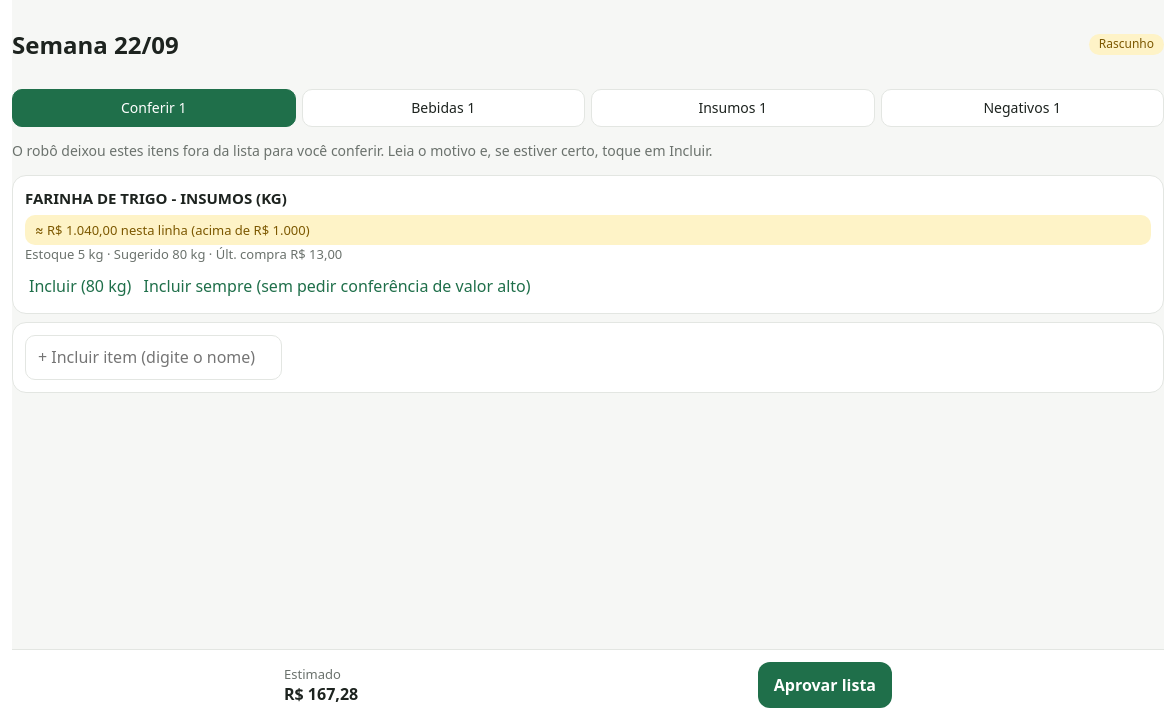
Revisão — aba Conferir, negativos e semana anterior (Fase 1A) › incluído o último item da aba Conferir, a aba some e a tela volta para Bebidas
What coordinates should you click on to do the following:
click the button "Incluir (80 kg)"
I would click on:
 (80, 286)
Its box is top-left (25, 271), bottom-right (135, 301).
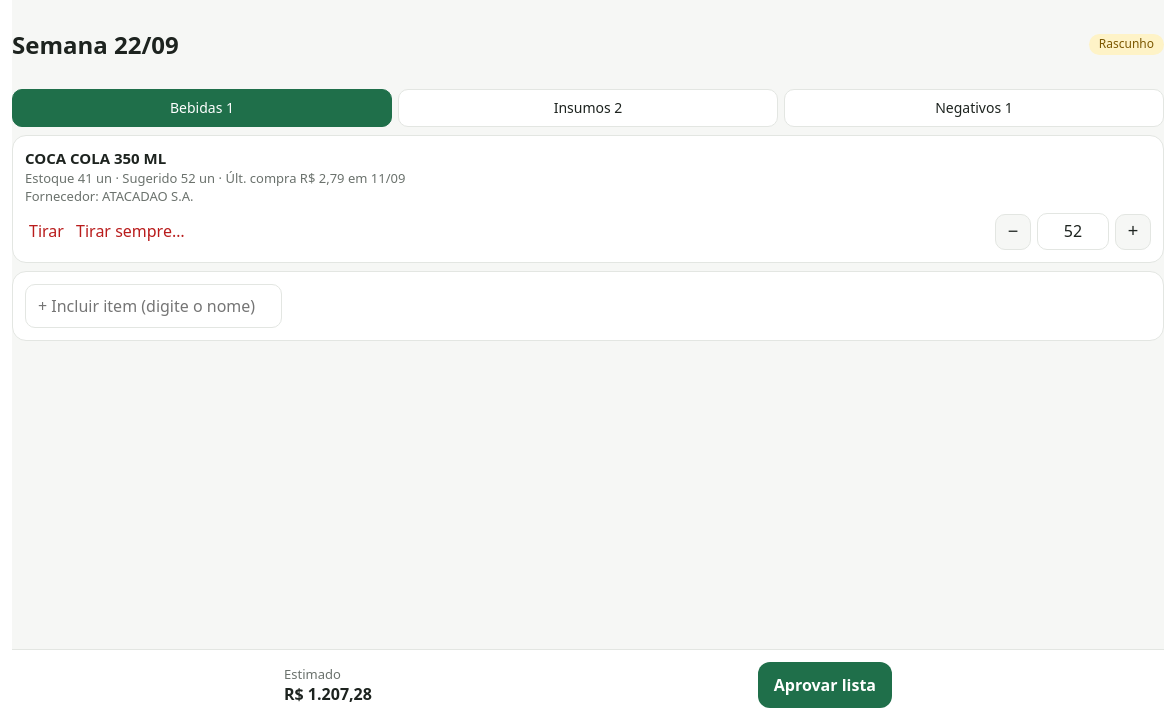
Now the button "Conferir" is gone
